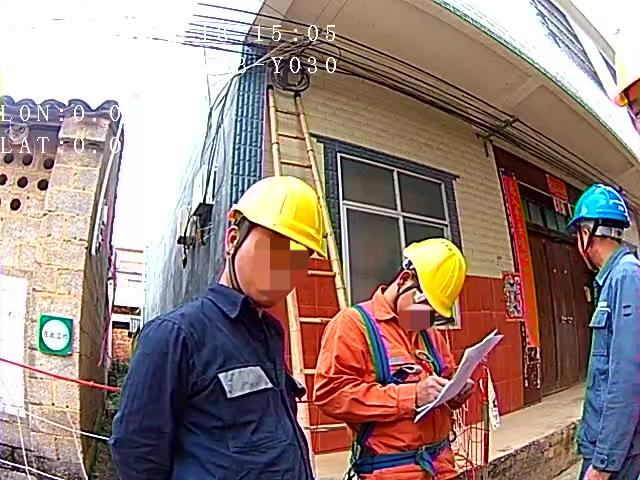halt: (225, 177, 332, 305), (395, 240, 469, 326), (570, 187, 634, 267)
inear: (392, 271, 423, 309), (224, 225, 253, 265), (577, 224, 600, 264)
